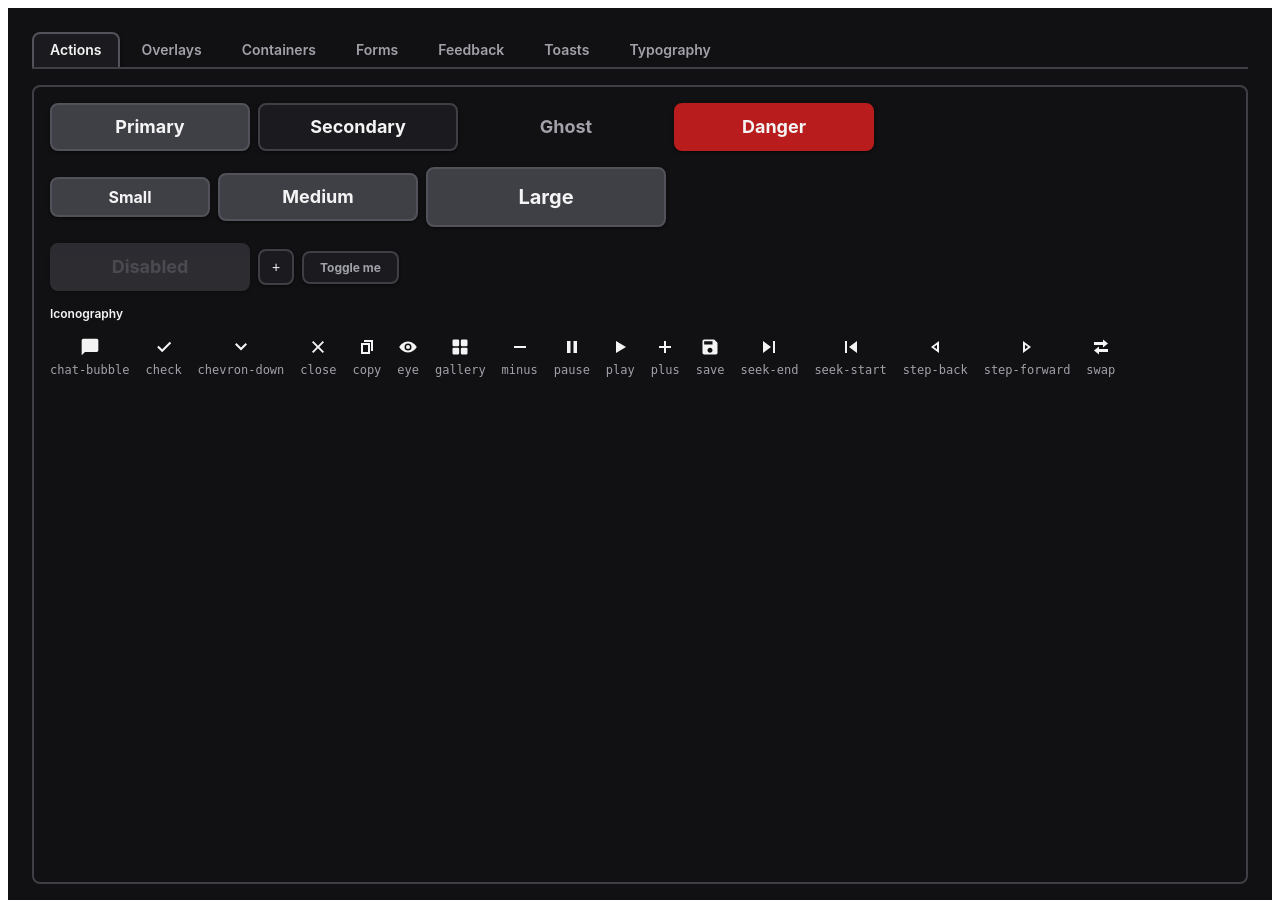
Test: ComponentGalleryClient — modal interaction › opens the example Modal when the open-modal button is clicked
Click the tab "Overlays" at (172, 50), box 124,32 -> 220,67
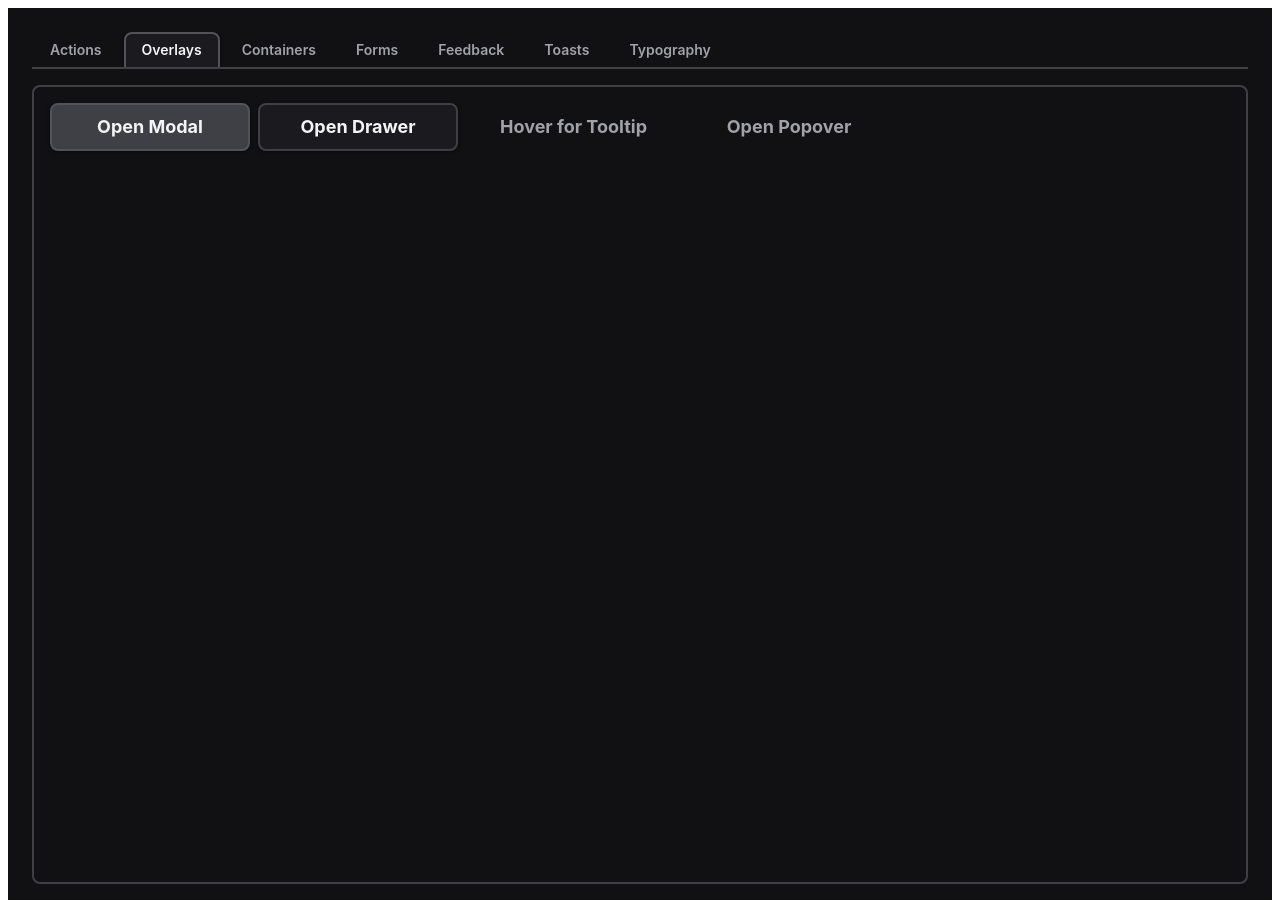
Click the button with test id "gallery-open-modal" at (150, 127), box 50,103 -> 250,151
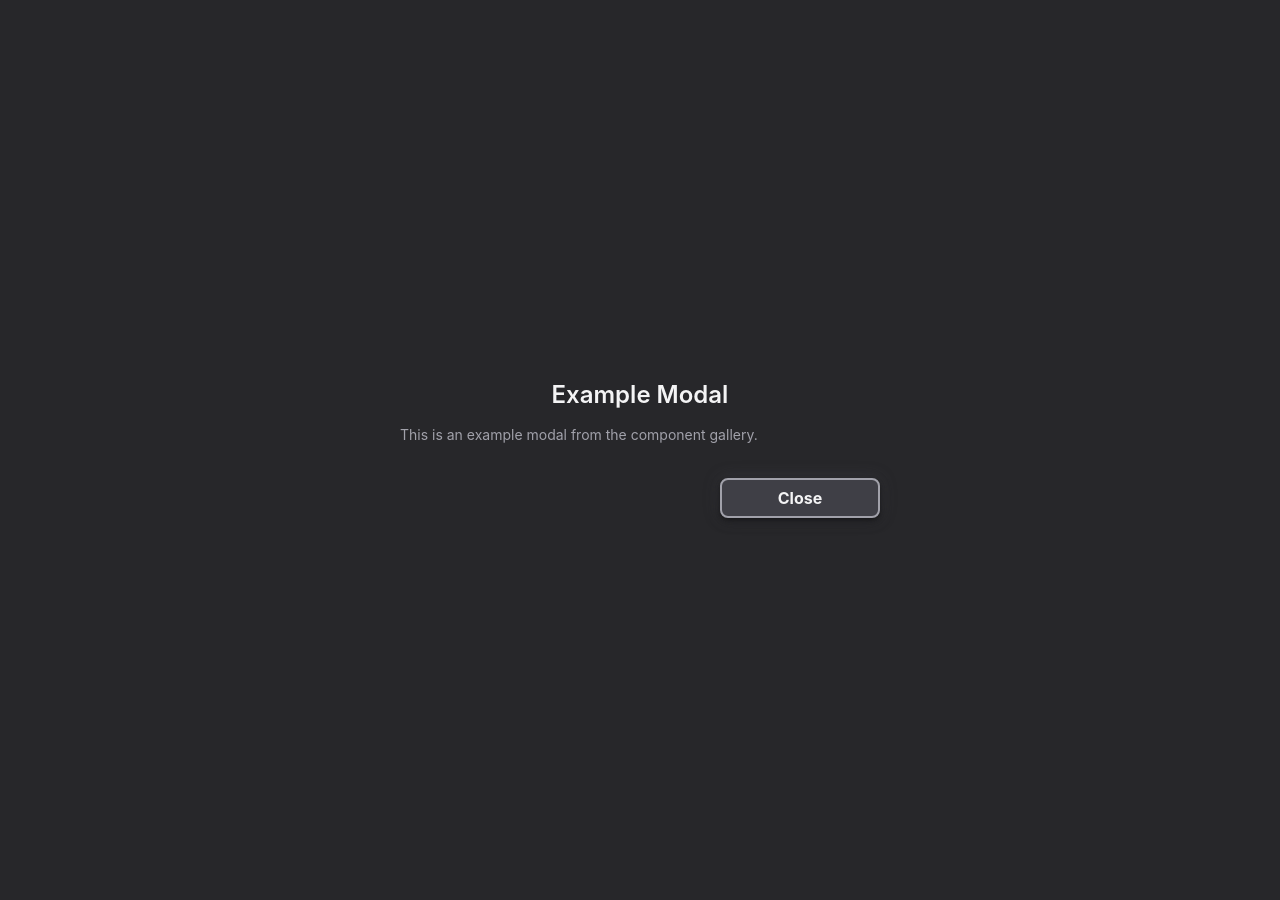
Now the dialog is shown, box 376,358 -> 904,542
